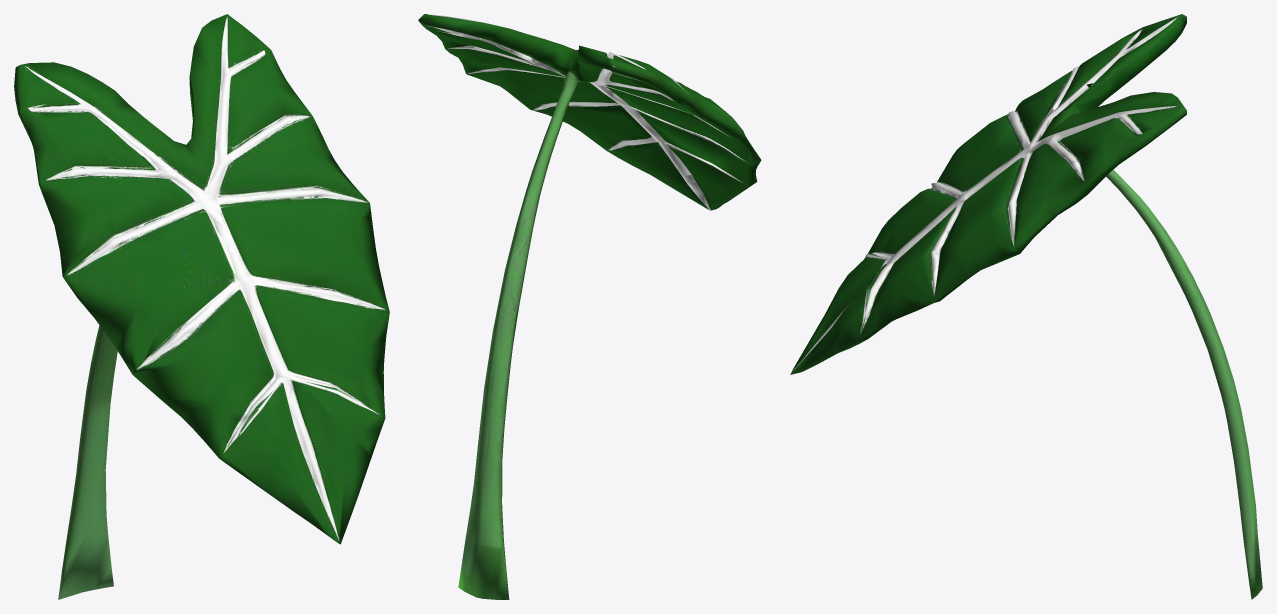
File: al_leaf_mature.glb
3 views of the same model, side by side, from view 1: azimuth 30°, elevation 25°; view 2: azimuth 150°, elevation 25°; view 3: azimuth 270°, elevation 25° (orthographic). The views are drawn at different scales.
Size of the model in its own units: 1.05 by 1.9 by 1.54.
Materials: 1 (1 with a texture image).
